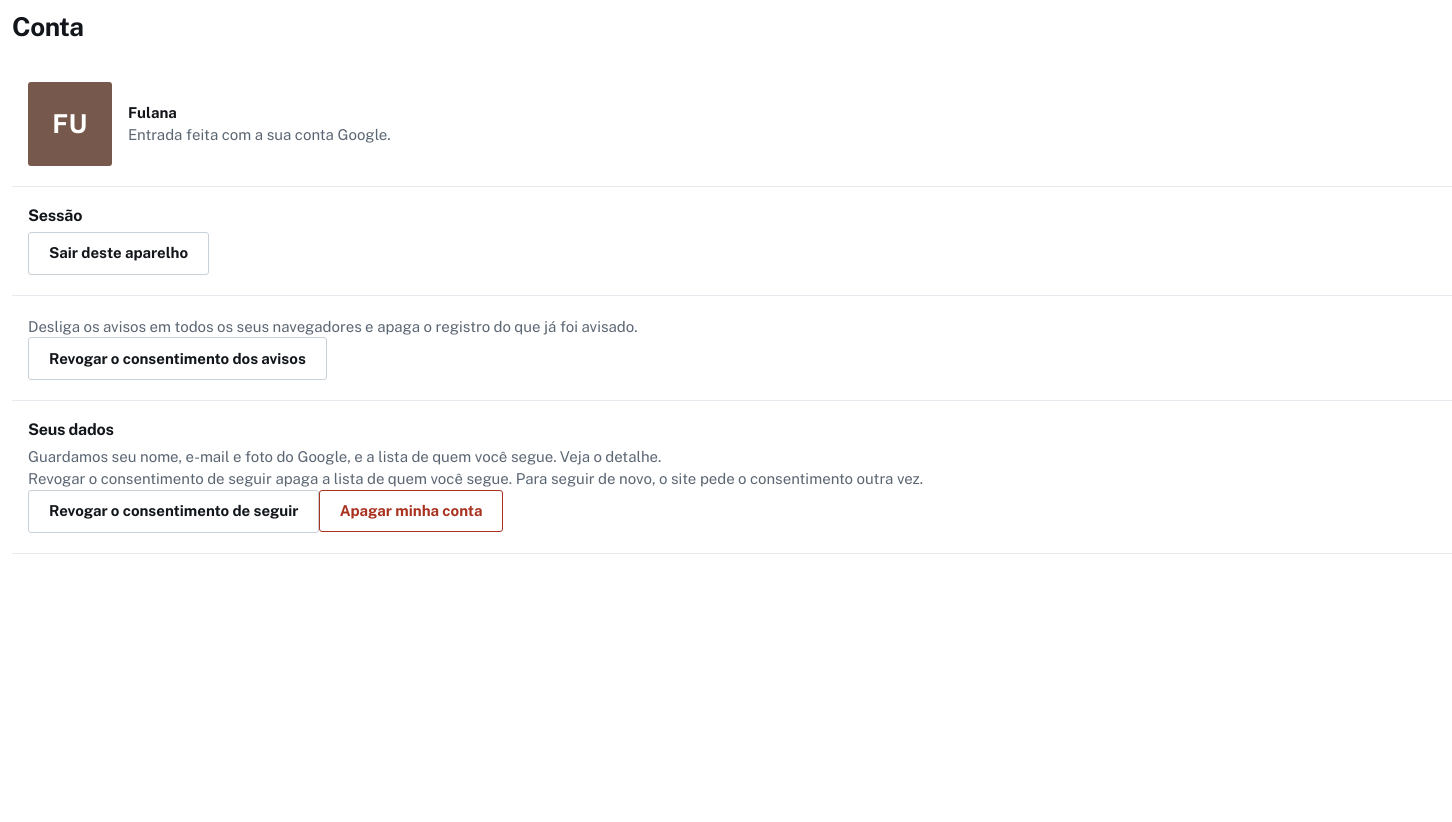
Scenario: minha conta › falha ao apagar mostra o erro e desfaz a confirmação
Click the button "Apagar minha conta" at (411, 511), box [320,490,503,532]
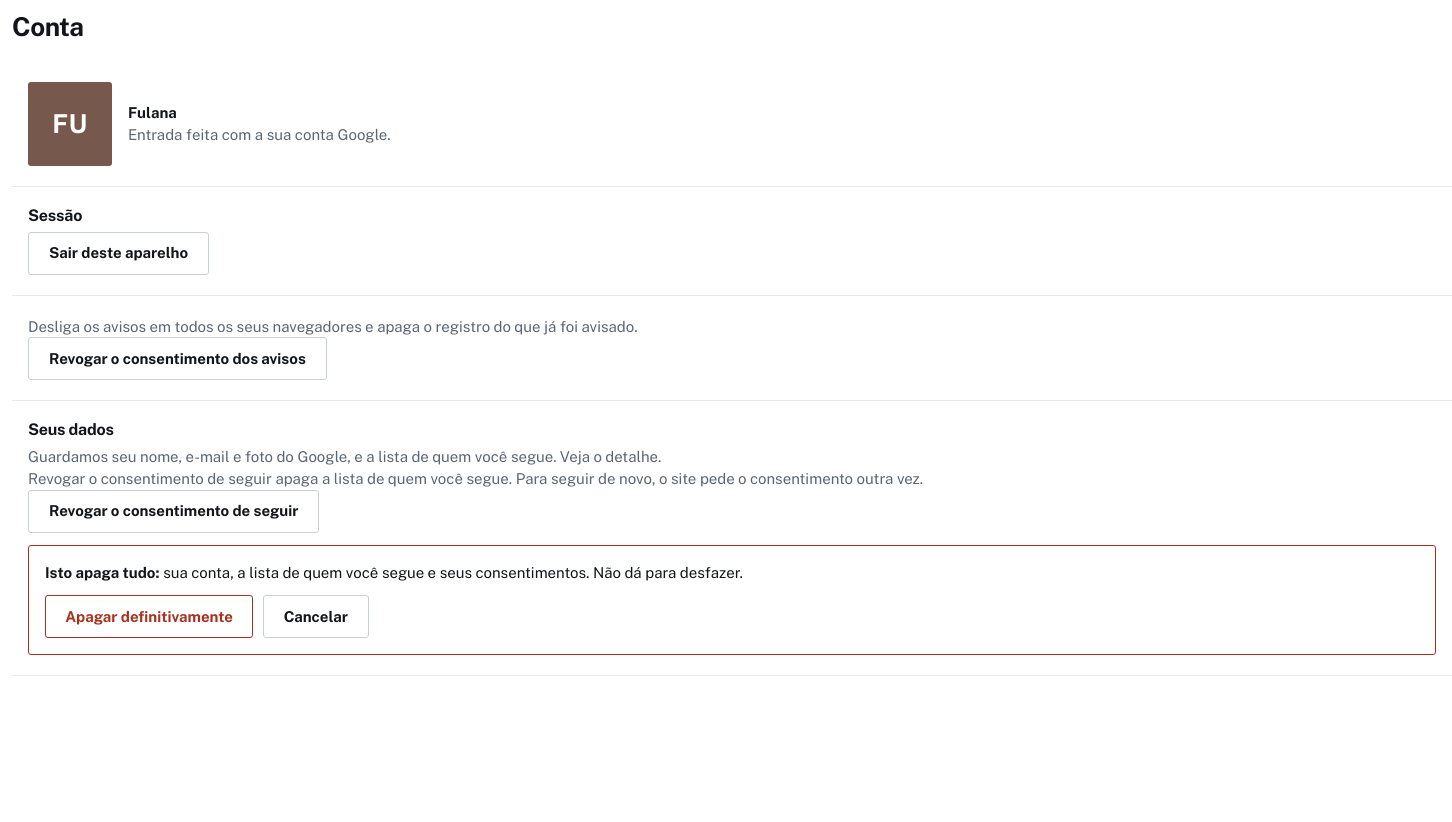
Click the button "Apagar definitivamente" at (149, 617), box [45,595,253,638]
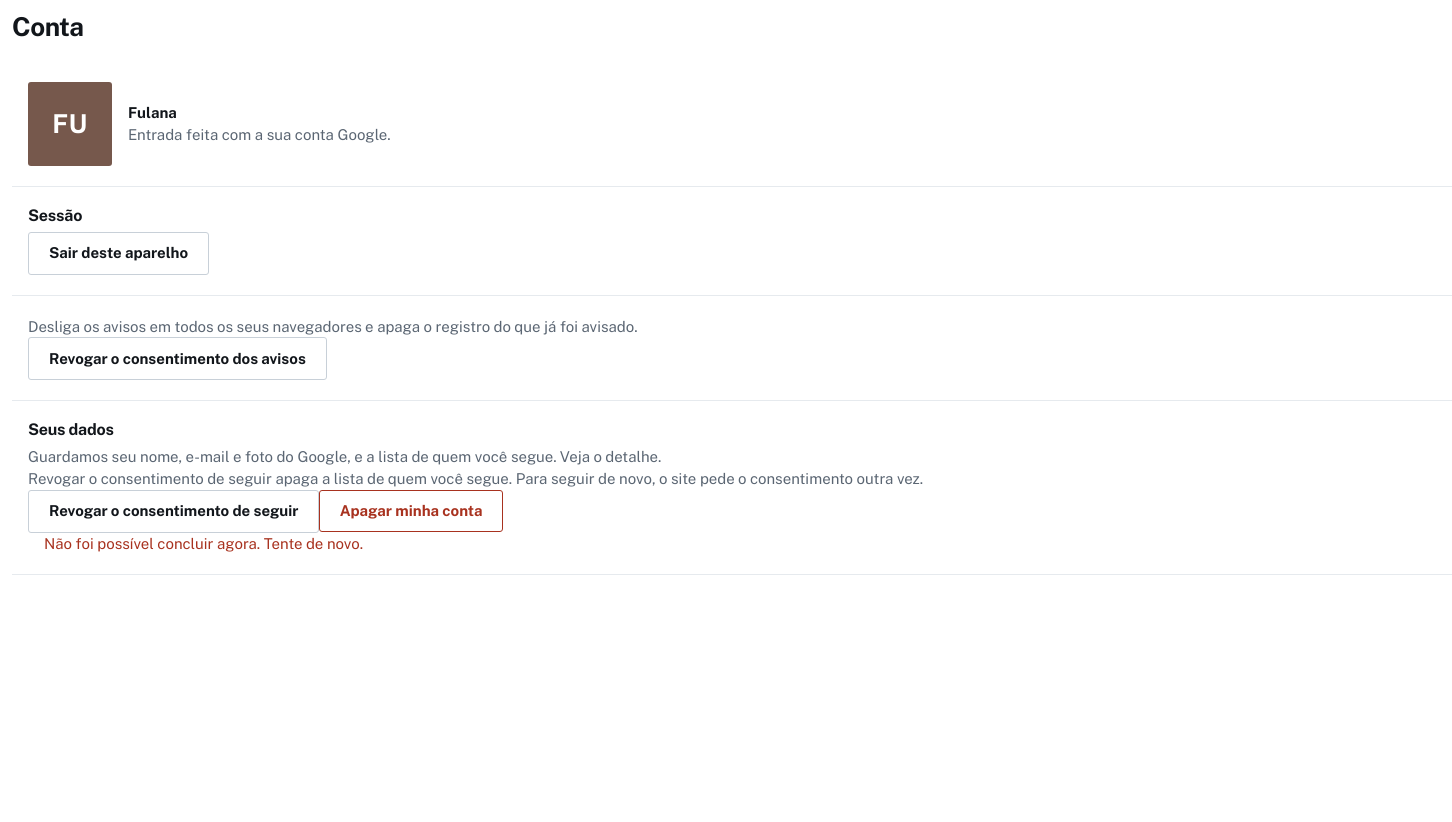
Expected: the text "Não foi possível concluir agora. Tente de novo." is shown, [44,534,363,552]
Expected: the button "Apagar minha conta" is shown, [320,490,503,532]
